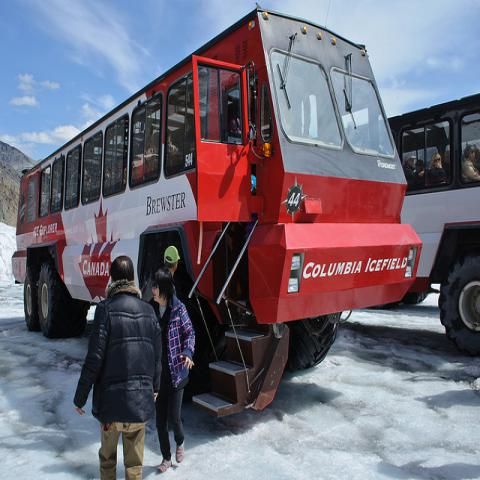bus: (14, 5, 424, 418), (389, 91, 479, 358)
